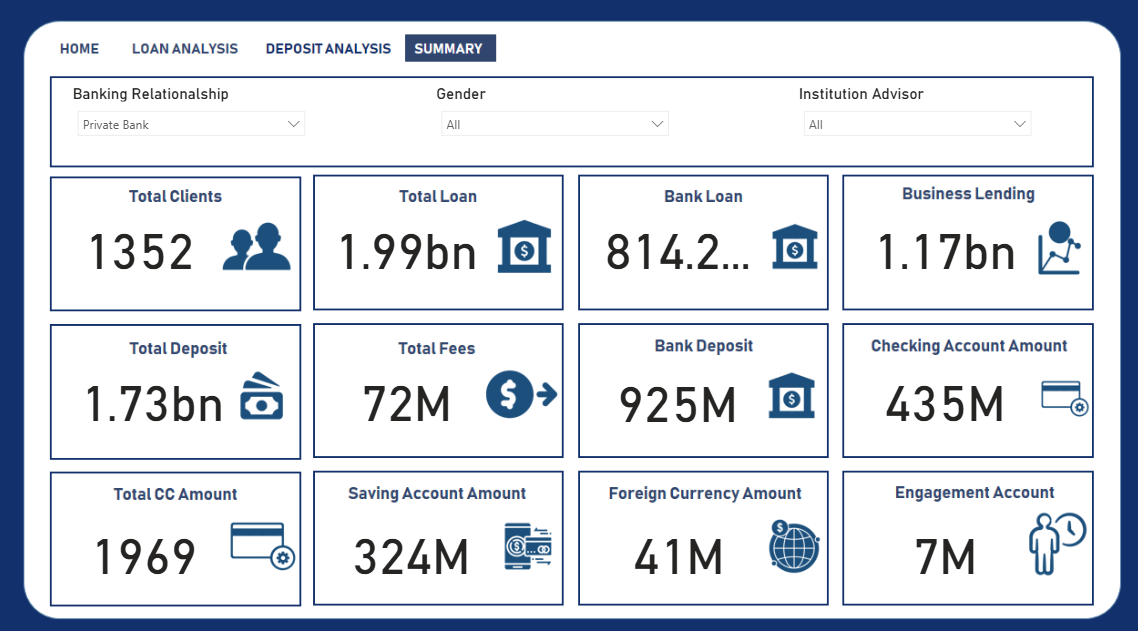

Layout of this report page (visuals, bound fields, positions):
{"tool":"powerbi","page":{"name":"SUMMARY","canvas":[1280,720],"ordinal":3},"visuals":[{"type":"card","fields":{"Values":["banking_case customer.Total Loan"]},"box":[367.8,233.3,185.2,85.1],"z":0},{"type":"card","fields":{"Values":["Sum(banking_case customer.Bank Loans)"]},"box":[665.5,233.3,185.2,85.1],"z":1},{"type":"card","fields":{"Values":["CountNonNull(banking_case customer.Client ID)"]},"box":[79.6,233.3,175.6,85.1],"z":2},{"type":"card","fields":{"Values":["Sum(banking_case customer.Business Lending)"]},"box":[959.2,233.3,185.2,85.1],"z":3},{"type":"card","fields":{"Values":["banking_case customer.Total Deposit"]},"box":[89.2,400.7,185.2,85.1],"z":4},{"type":"card","fields":{"Values":["banking_case customer.Total Fees"]},"box":[373.2,400.7,174.3,85.1],"z":5},{"type":"card","fields":{"Values":["Sum(banking_case customer.Bank Deposits)"]},"box":[665.1,400.1,185,86.3],"z":6},{"type":"card","fields":{"Values":["Sum(banking_case customer.Checking Accounts)"]},"box":[959.2,400.7,185.2,85.1],"z":7},{"type":"card","fields":{"Values":["Sum(banking_case customer.Amount of Credit Cards)"]},"box":[79.6,568.1,185.2,85.1],"z":8},{"type":"card","fields":{"Values":["Sum(banking_case customer.Saving Accounts)"]},"box":[373.2,568.1,185.2,85.1],"z":9},{"type":"card","fields":{"Values":["Sum(banking_case customer.Foreign Currency Account)"]},"box":[666.9,568.1,185.2,85.1],"z":10},{"type":"card","fields":{"Values":["banking_case customer.Engagment Length"]},"box":[958.9,567.6,185,85],"z":11},{"type":"slicer","title":"Banking Relationalship","fields":{"Values":["banking_case customer.BRId"]},"box":[88.8,98.8,270.1,80],"z":12},{"type":"slicer","title":"Gender","fields":{"Values":["banking_case customer.GenderId"]},"box":[488.8,98.8,270.1,80],"z":13},{"type":"slicer","title":"Institution Advisor","fields":{"Values":["banking_case customer.IAId"]},"box":[886.4,98.8,270.1,80],"z":14},{"type":"actionButton","box":[54.3,41,83.2,39.8],"z":15},{"type":"actionButton","box":[158,41,117,30.2],"z":16},{"type":"actionButton","box":[300.4,41,144.8,30.2],"z":17},{"type":"actionButton","box":[465.7,41,92.9,30.2],"z":18}]}

Visuals, with their boxes in screenshot pixels (x1, y1, x2, y2), scaled from the page's 1280x720 canvas onto the 1138x631 screenshot:
card - banking_case customer.Total Loan: l=327, t=204, r=492, b=279
card - Sum(banking_case customer.Bank Loans): l=592, t=204, r=756, b=279
card - CountNonNull(banking_case customer.Client ID): l=71, t=204, r=227, b=279
card - Sum(banking_case customer.Business Lending): l=853, t=204, r=1017, b=279
card - banking_case customer.Total Deposit: l=79, t=351, r=244, b=426
card - banking_case customer.Total Fees: l=332, t=351, r=487, b=426
card - Sum(banking_case customer.Bank Deposits): l=591, t=351, r=756, b=426
card - Sum(banking_case customer.Checking Accounts): l=853, t=351, r=1017, b=426
card - Sum(banking_case customer.Amount of Credit Cards): l=71, t=498, r=235, b=572
card - Sum(banking_case customer.Saving Accounts): l=332, t=498, r=496, b=572
card - Sum(banking_case customer.Foreign Currency Account): l=593, t=498, r=758, b=572
card - banking_case customer.Engagment Length: l=853, t=497, r=1017, b=572
"Banking Relationalship" slicer: l=79, t=87, r=319, b=157
"Gender" slicer: l=435, t=87, r=675, b=157
"Institution Advisor" slicer: l=788, t=87, r=1028, b=157
actionButton: l=48, t=36, r=122, b=71
actionButton: l=140, t=36, r=244, b=62
actionButton: l=267, t=36, r=396, b=62
actionButton: l=414, t=36, r=497, b=62
